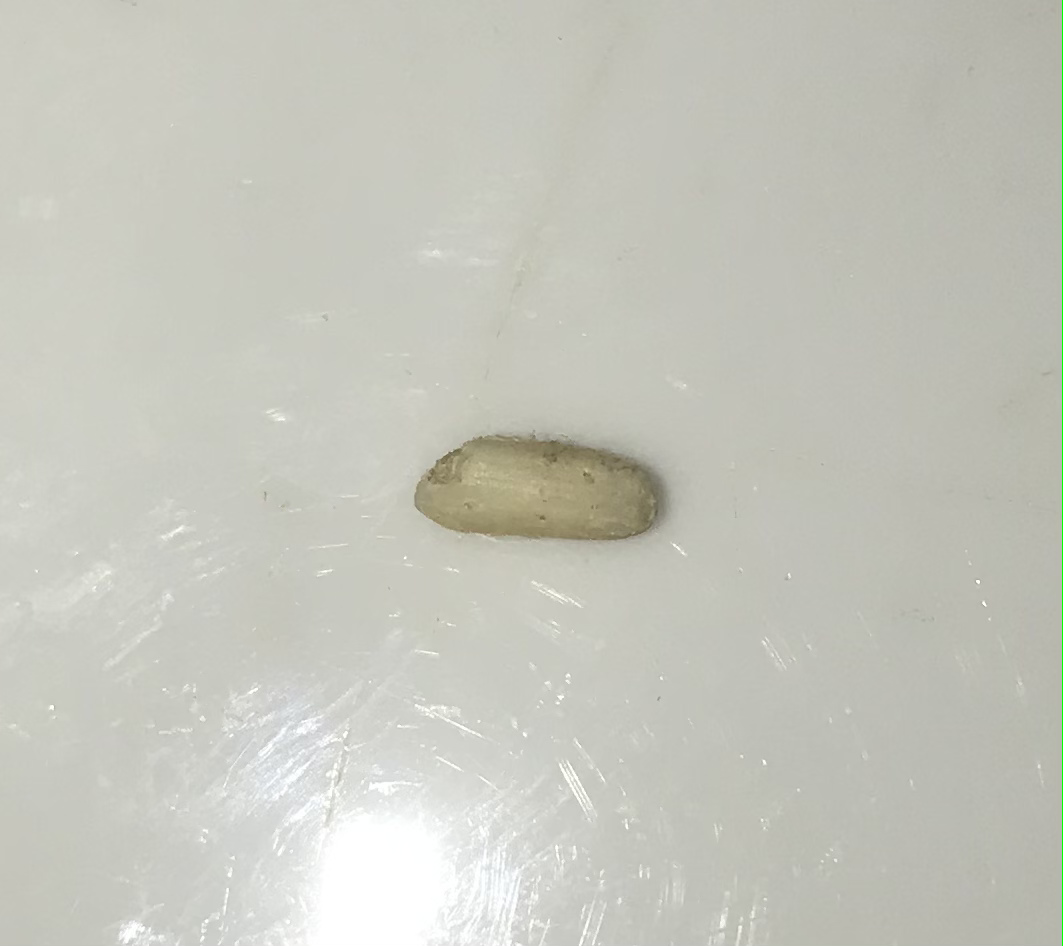Gao Lut Trang: (405, 411, 676, 557)
